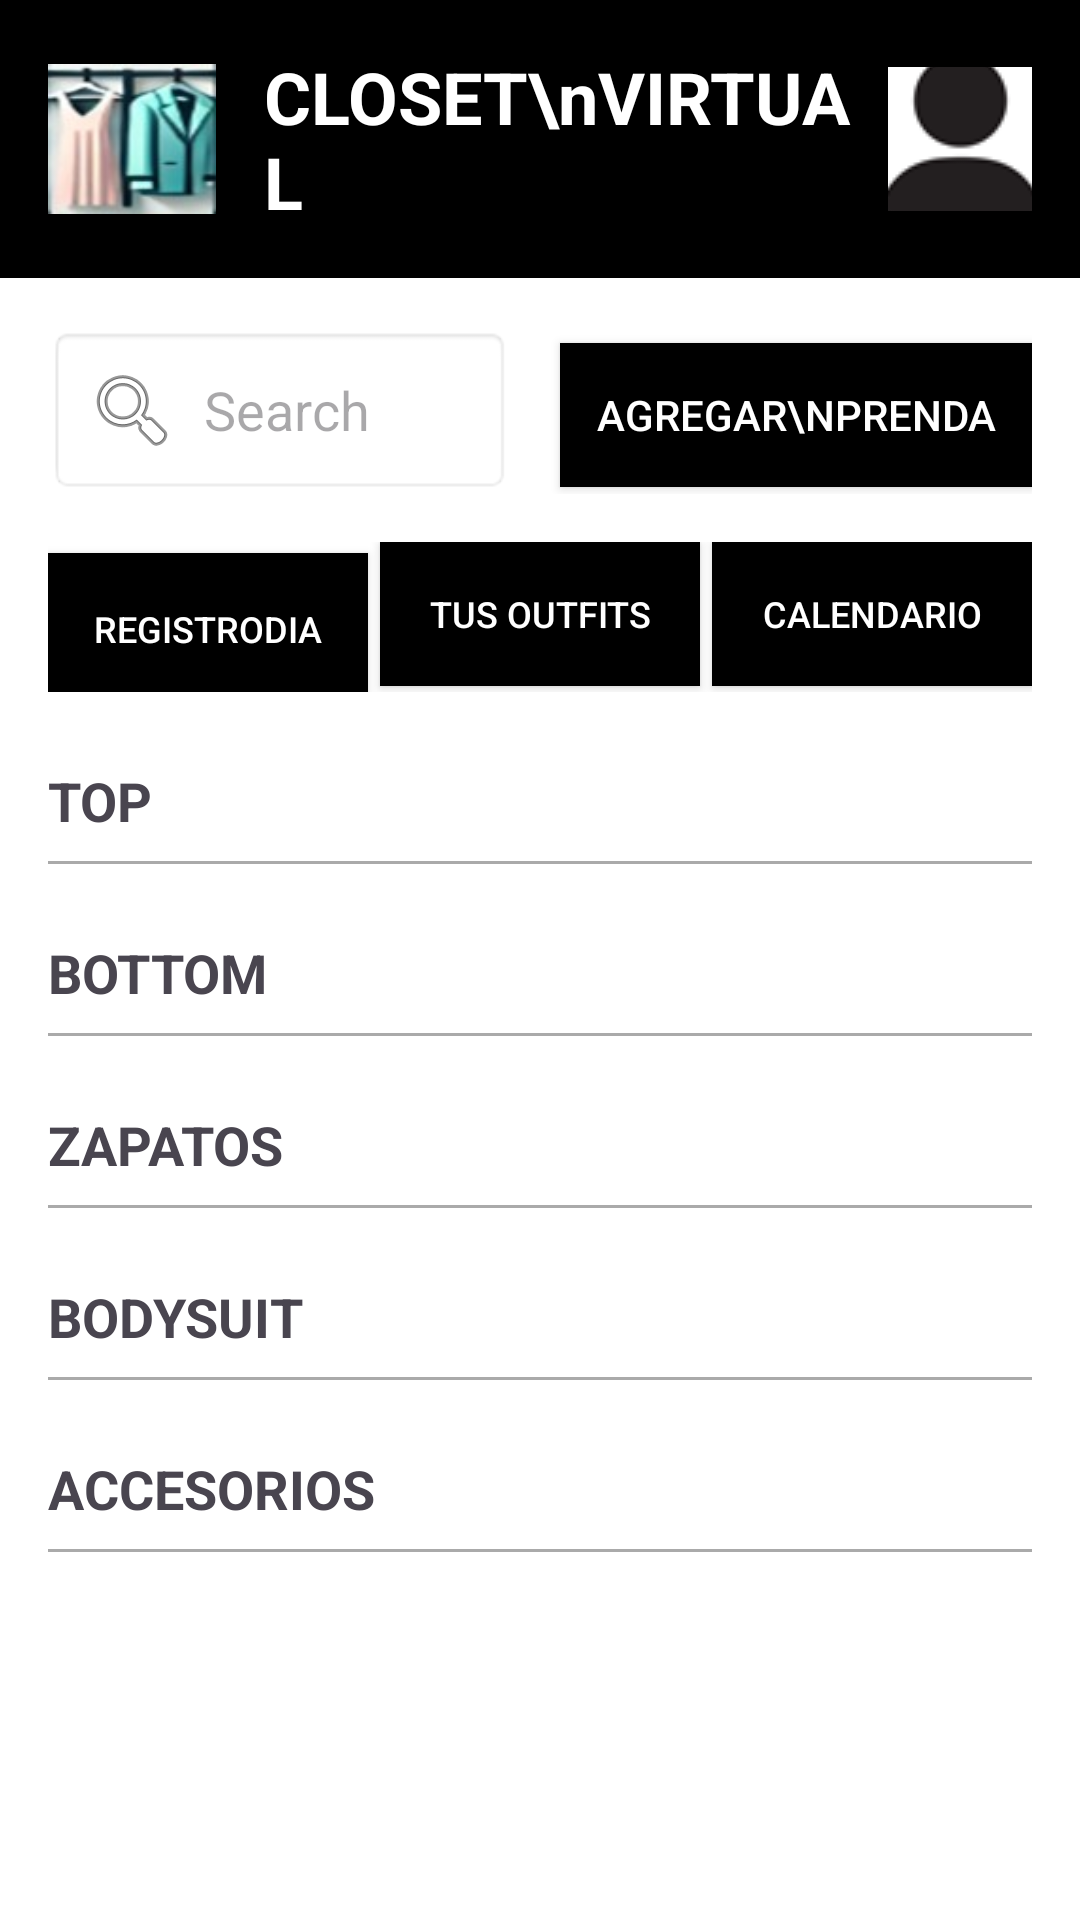

Icons on this 1080px×1920px Android screen, each with the point to tap as (x=x, y=y):
User Profile: (x=960, y=139)
